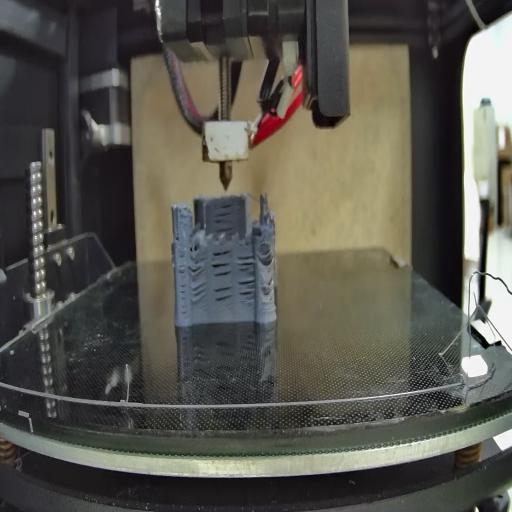cracks: (210, 203, 236, 234), (210, 247, 232, 278), (177, 254, 187, 316), (214, 285, 235, 309), (238, 278, 256, 302), (188, 256, 206, 278), (190, 282, 207, 305), (236, 253, 255, 273), (263, 248, 275, 268), (174, 231, 182, 245), (267, 271, 273, 288)
